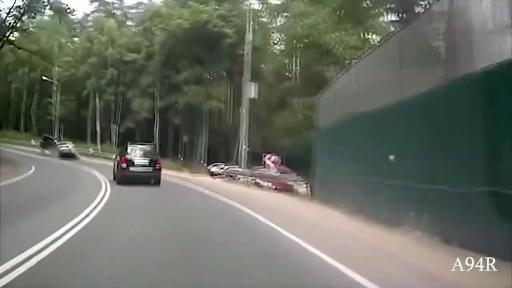Accident: (30, 104, 97, 179)
